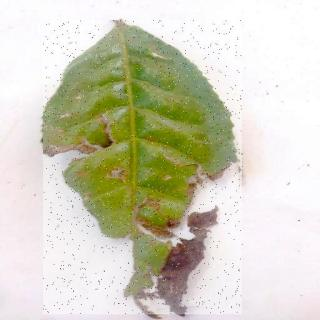Brown Blight: (45, 21, 244, 316)
